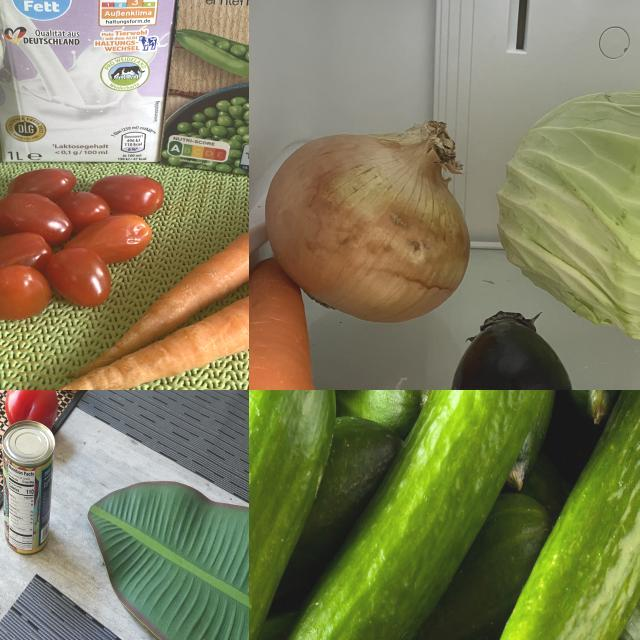bell_pepper: (5, 391, 57, 437)
cabbage: (494, 85, 640, 349)
carrot: (45, 284, 250, 391), (79, 243, 250, 363), (250, 253, 323, 391)
cucumber: (280, 391, 564, 640), (492, 391, 640, 640), (250, 391, 338, 640)
eggplant: (450, 307, 578, 391)
onion: (264, 116, 470, 328)
tomato: (1, 144, 163, 322)
